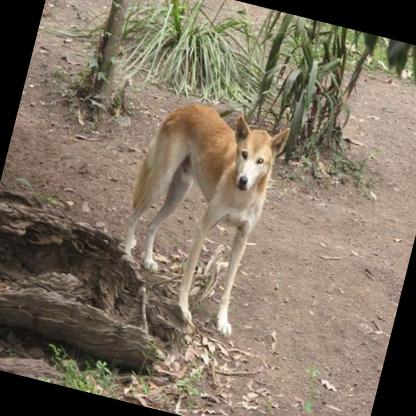dingo: (102, 90, 292, 341)
